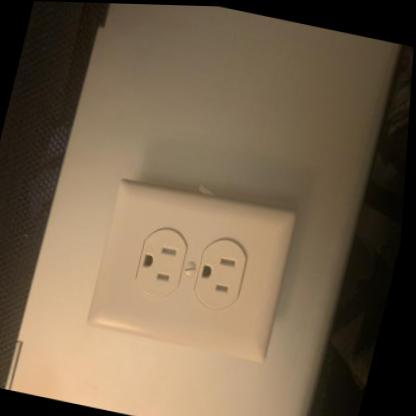OUTLET: (80, 172, 303, 364)
